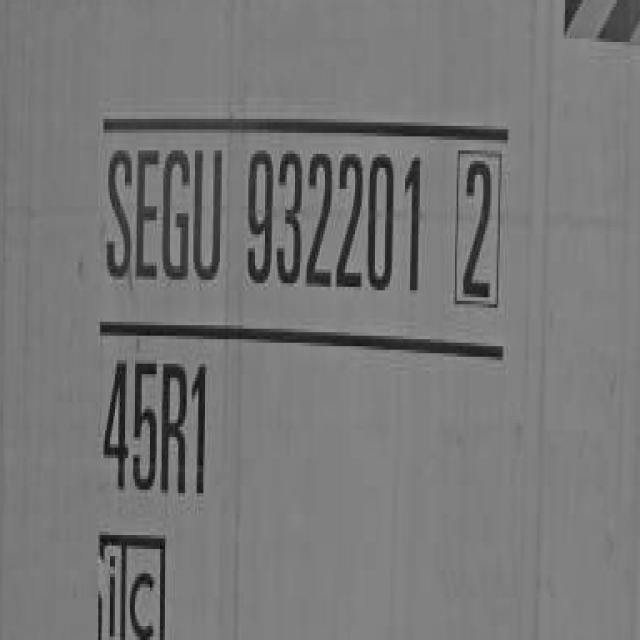dv: (453, 150, 508, 320)
owner: (99, 144, 227, 299)
serial: (242, 150, 426, 314)
size: (95, 348, 217, 508)
